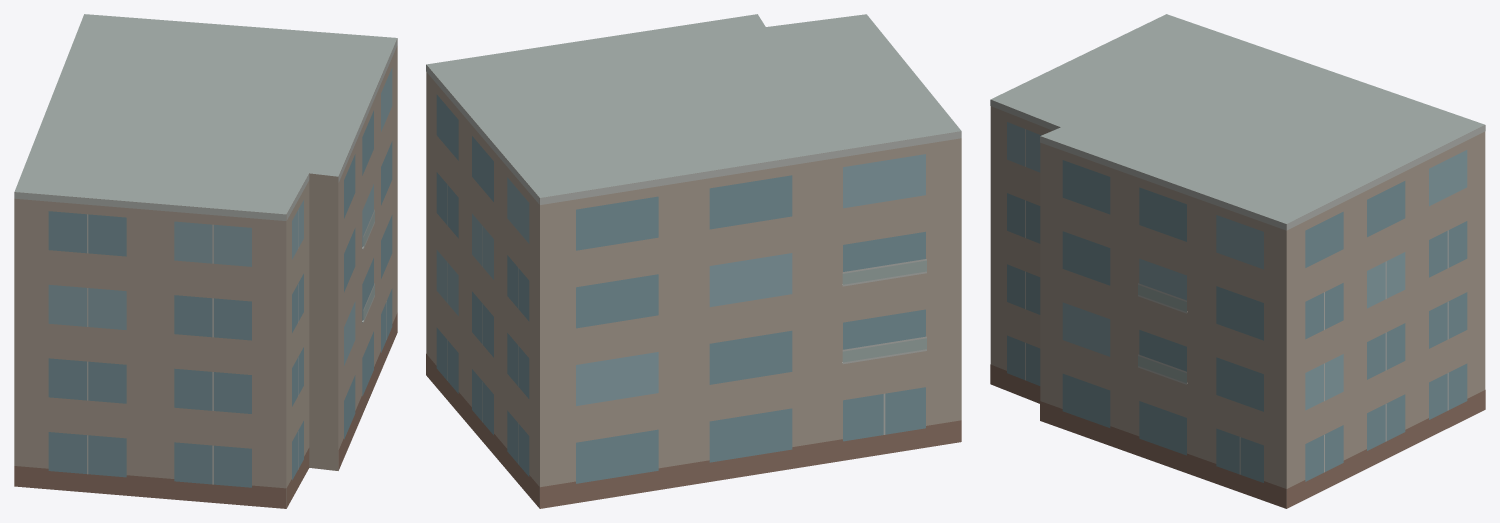
File: survey-upis-32611631.glb
The picture shows the model from 3 angles, left to right: view 1: azimuth 30°, elevation 25°; view 2: azimuth 150°, elevation 25°; view 3: azimuth 270°, elevation 25°; orthographic projection. The views are drawn at different scales.
Visible parts, largest first — view 1: survey-upis-32611631.tmp; view 2: survey-upis-32611631.tmp; view 3: survey-upis-32611631.tmp.
Boxes of the visible parts, x1,y1,x2,y2 form: survey-upis-32611631.tmp: (14, 14, 397, 508); survey-upis-32611631.tmp: (426, 14, 961, 508); survey-upis-32611631.tmp: (990, 14, 1485, 508).
Size of the model in its own units: 16.86 by 10.65 by 16.78.
